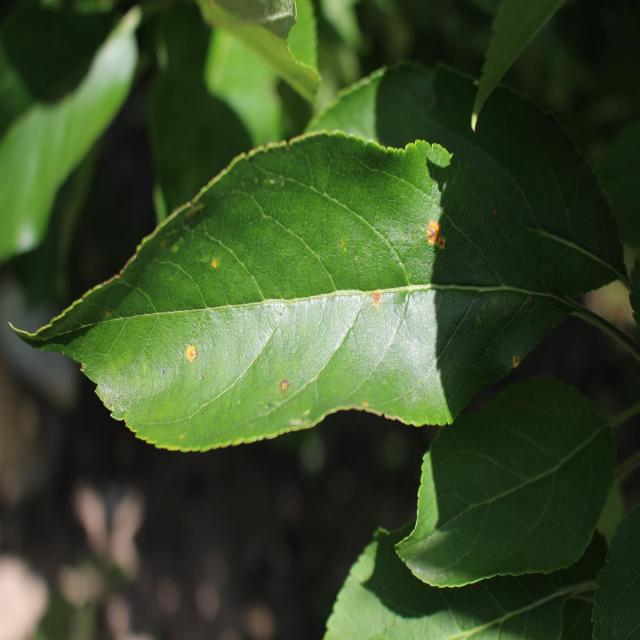Rust: (420, 215, 452, 261), (502, 343, 528, 381), (172, 337, 206, 365), (267, 371, 295, 402), (200, 254, 223, 278), (361, 290, 384, 313)
